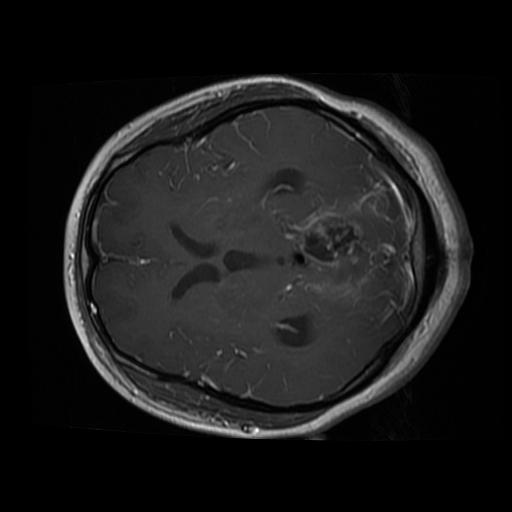glioma: (272, 174, 404, 327)
